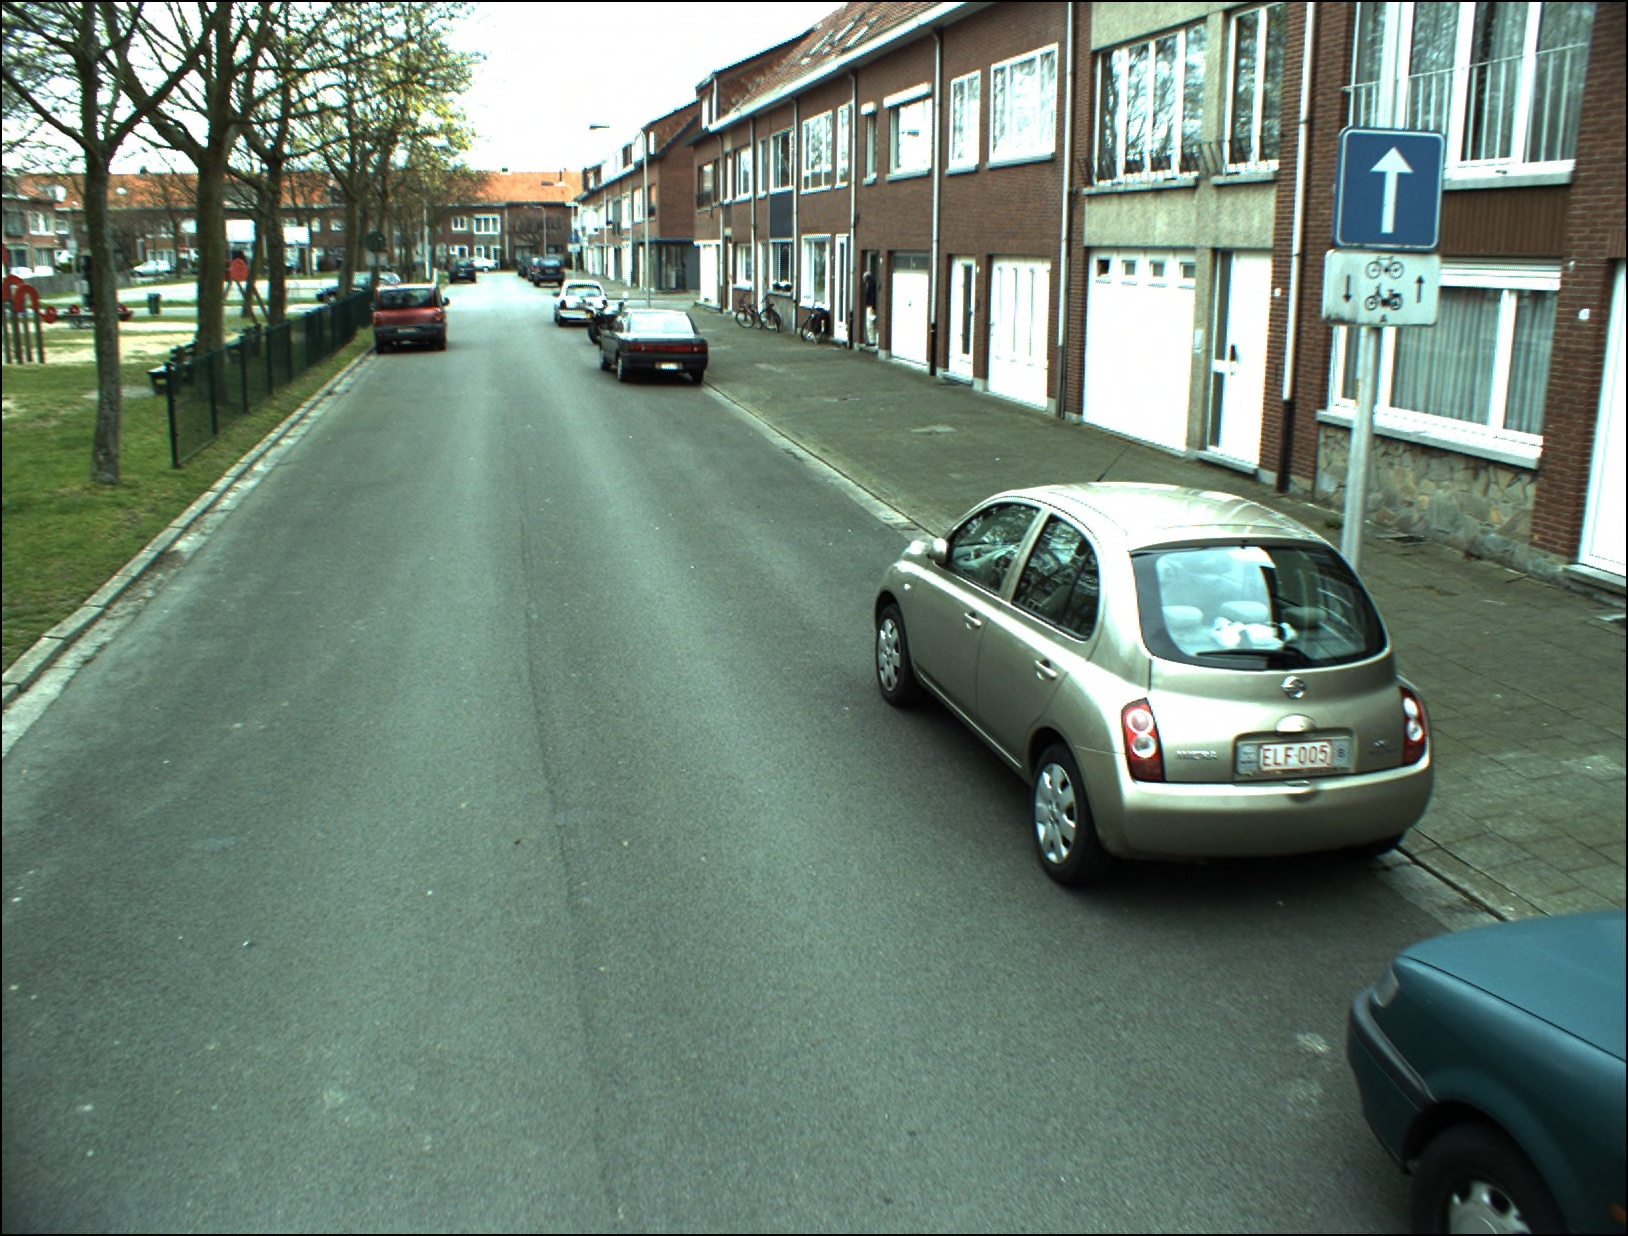oneway: (1336, 131, 1438, 251)
